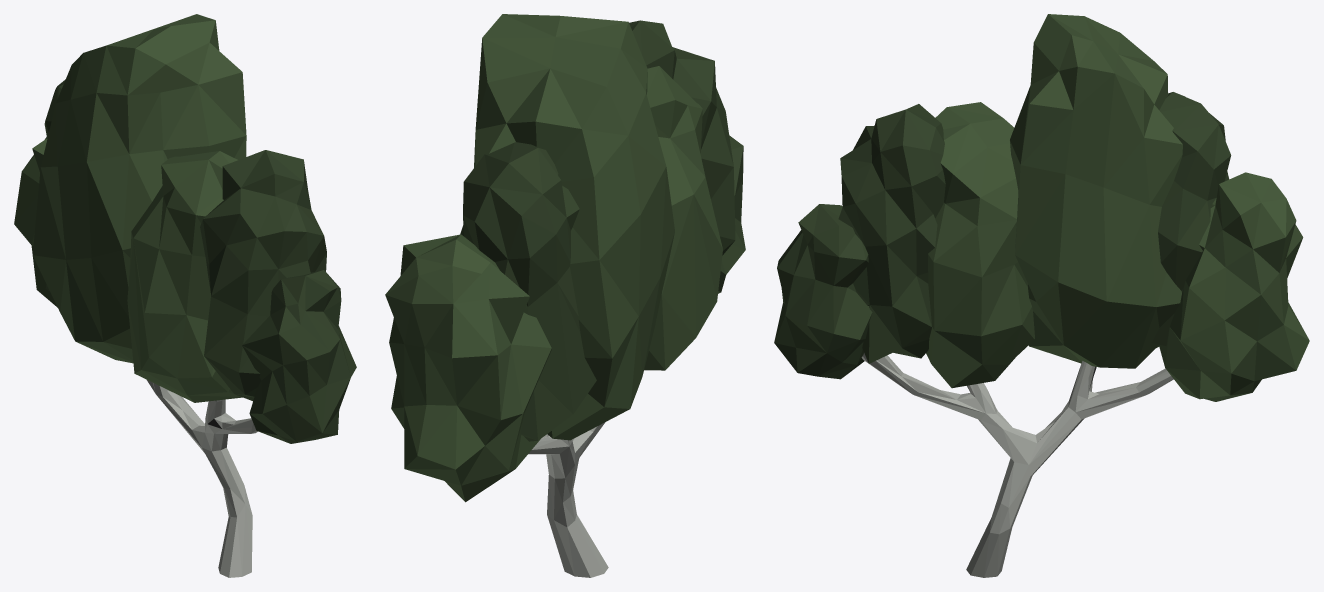
The model's file is BirchTree_4.glb.
3 renders of one model, left to right at view 1: azimuth 30°, elevation 25°; view 2: azimuth 150°, elevation 25°; view 3: azimuth 270°, elevation 25°, orthographic. The views are drawn at different scales.
Parts seen in each view (by area): view 1: BirchTree_4_Cube.070; view 2: BirchTree_4_Cube.070; view 3: BirchTree_4_Cube.070.
Part boxes in pixels (<box>): BirchTree_4_Cube.070: <box>14,14,356,577</box>; BirchTree_4_Cube.070: <box>385,14,745,577</box>; BirchTree_4_Cube.070: <box>774,14,1309,577</box>.
Bounding box in the file's own units: 1.15 × 3.56 × 3.29.
